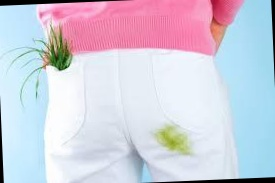earth: (156, 128, 191, 152)
